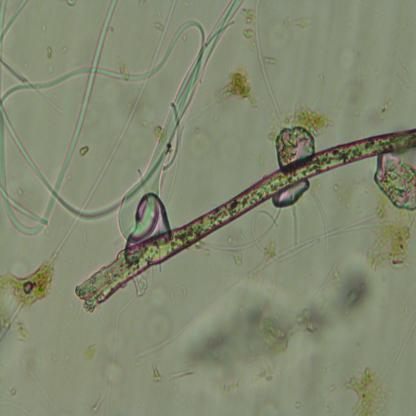Air bubble: (373, 149, 416, 209), (273, 122, 316, 164)
Background material: (166, 262, 369, 380), (364, 206, 416, 274), (0, 263, 61, 307), (345, 364, 393, 416), (213, 63, 262, 110), (329, 80, 366, 124), (286, 102, 330, 137), (244, 3, 255, 55), (284, 14, 312, 30), (256, 398, 280, 416), (82, 338, 98, 362), (152, 360, 160, 383)
Glass filter fibre: (48, 3, 178, 258), (115, 0, 244, 244), (0, 0, 119, 236), (0, 17, 207, 103), (251, 209, 379, 278), (136, 281, 242, 360), (102, 292, 136, 415), (210, 208, 282, 266), (254, 0, 285, 127), (0, 186, 48, 226), (307, 188, 330, 246), (0, 1, 29, 43), (272, 179, 310, 208), (0, 0, 10, 48)
Microfibre: (74, 127, 416, 312)
